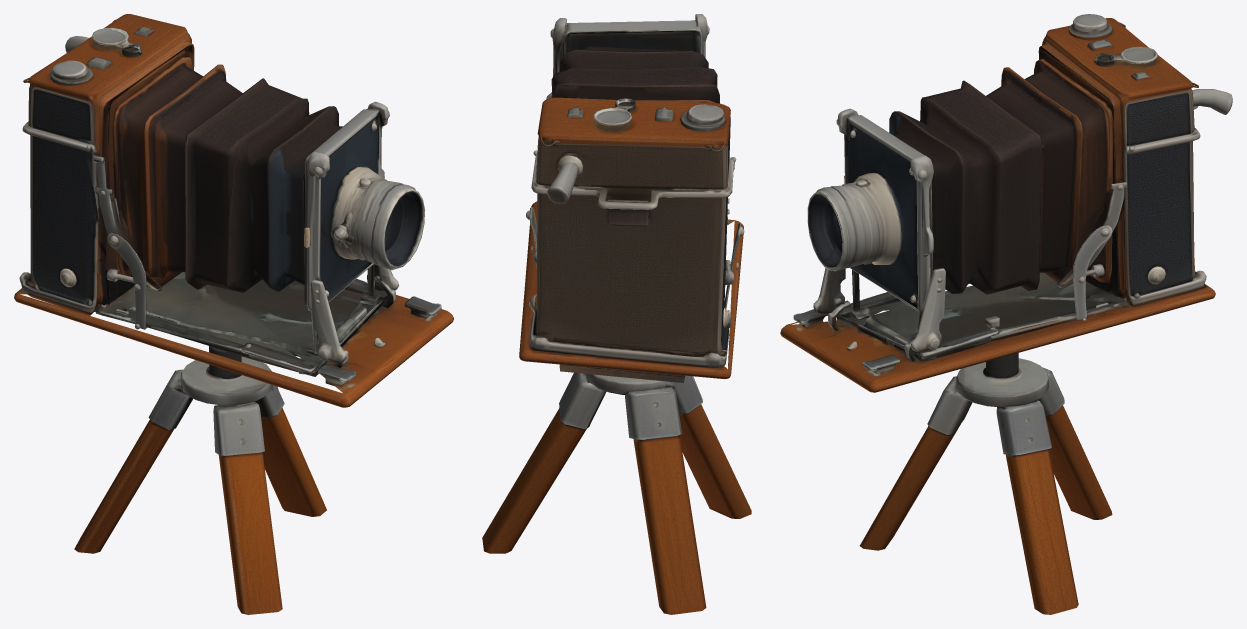
File: camera-obscura.glb
3 renders of one model, left to right at view 1: azimuth 30°, elevation 25°; view 2: azimuth 150°, elevation 25°; view 3: azimuth 270°, elevation 25°, orthographic. The views are drawn at different scales.
Parts seen in each view (by area): view 1: tripo_78c8ec21_fb86_4e13_b802_c8d9ce3ca3d3; view 2: tripo_78c8ec21_fb86_4e13_b802_c8d9ce3ca3d3; view 3: tripo_78c8ec21_fb86_4e13_b802_c8d9ce3ca3d3.
Boxes of the visible parts, x1,y1,x2,y2 form: tripo_78c8ec21_fb86_4e13_b802_c8d9ce3ca3d3: [14, 14, 453, 614]; tripo_78c8ec21_fb86_4e13_b802_c8d9ce3ca3d3: [482, 14, 751, 614]; tripo_78c8ec21_fb86_4e13_b802_c8d9ce3ca3d3: [780, 14, 1232, 614].
Size of the model in its own units: 0.6802 by 0.9995 by 0.8521.
Materials: 1 (1 with a texture image).
